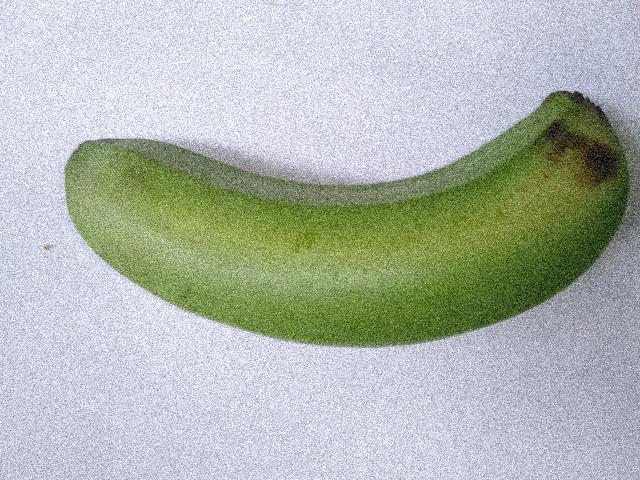freshunripe: (46, 71, 639, 381)
